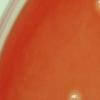white: (66, 87, 83, 100), (93, 0, 100, 13)
